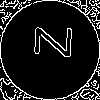Z: (25, 25, 72, 58)
